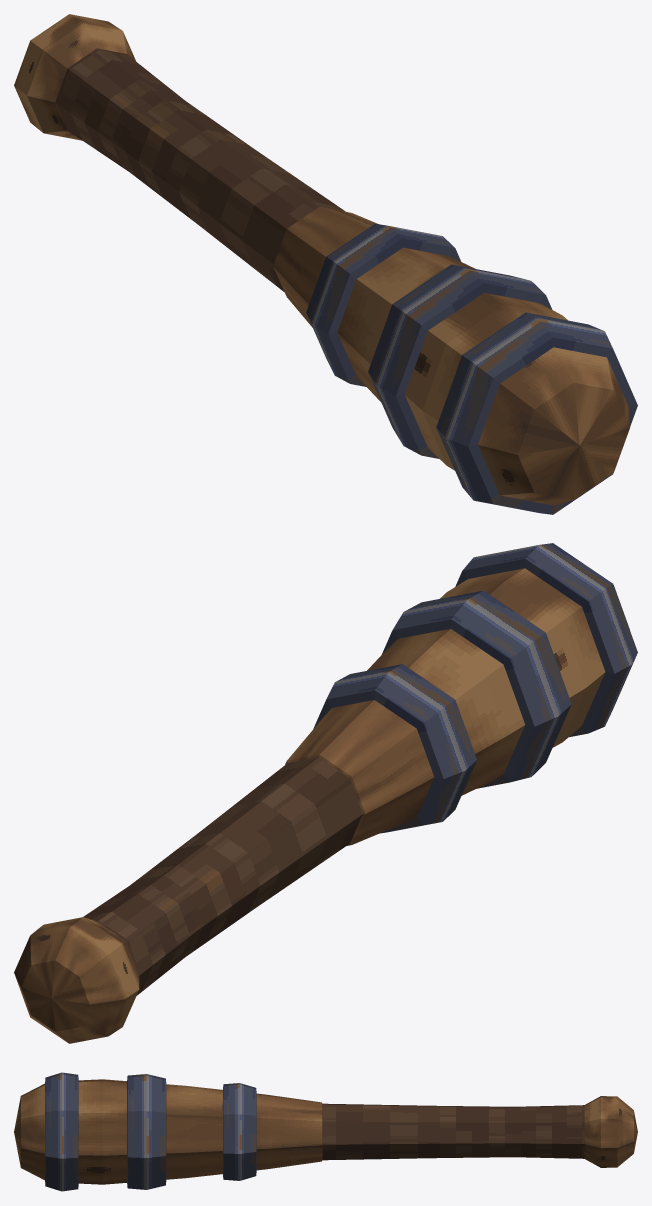
The model's file is club.glb.
3 renders of one model, top to bottom at view 1: azimuth 30°, elevation 25°; view 2: azimuth 150°, elevation 25°; view 3: azimuth 270°, elevation 25°, orthographic. The views are drawn at different scales.
Visible parts, largest first — view 1: club; view 2: club; view 3: club.
Boxes of the visible parts, x1,y1,x2,y2 form: club: [14, 14, 637, 514]; club: [14, 543, 637, 1043]; club: [14, 1072, 637, 1191].
Size of the model in its own units: 0.0833 by 0.0833 by 0.4104.
1 material, 1 textured.
